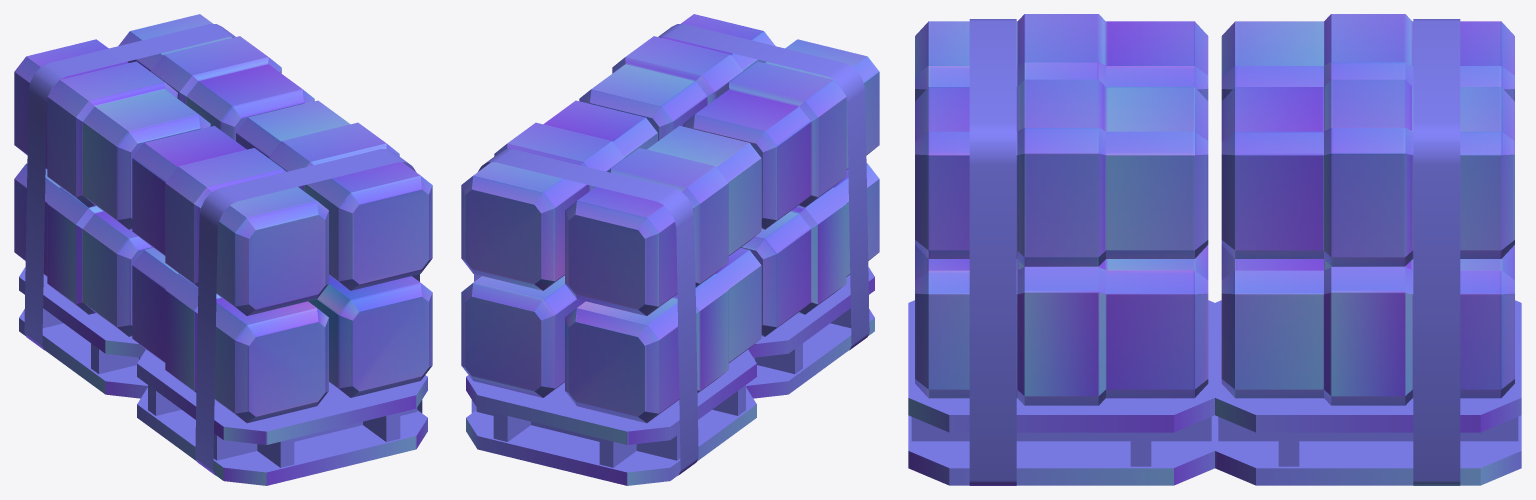
File: basic-crate.obj
3 views of the same model, side by side, from view 1: azimuth 30°, elevation 25°; view 2: azimuth 150°, elevation 25°; view 3: azimuth 270°, elevation 25° (orthographic). The views are drawn at different scales.
Visible parts, largest first — view 1: Basic_crate; view 2: Basic_crate; view 3: Basic_crate.
Part boxes in pixels (<box>): Basic_crate: <box>14,14,432,485</box>; Basic_crate: <box>461,14,879,485</box>; Basic_crate: <box>908,14,1521,485</box>.
Size of the model in its own units: 3.04 by 3.77 by 5.94.
